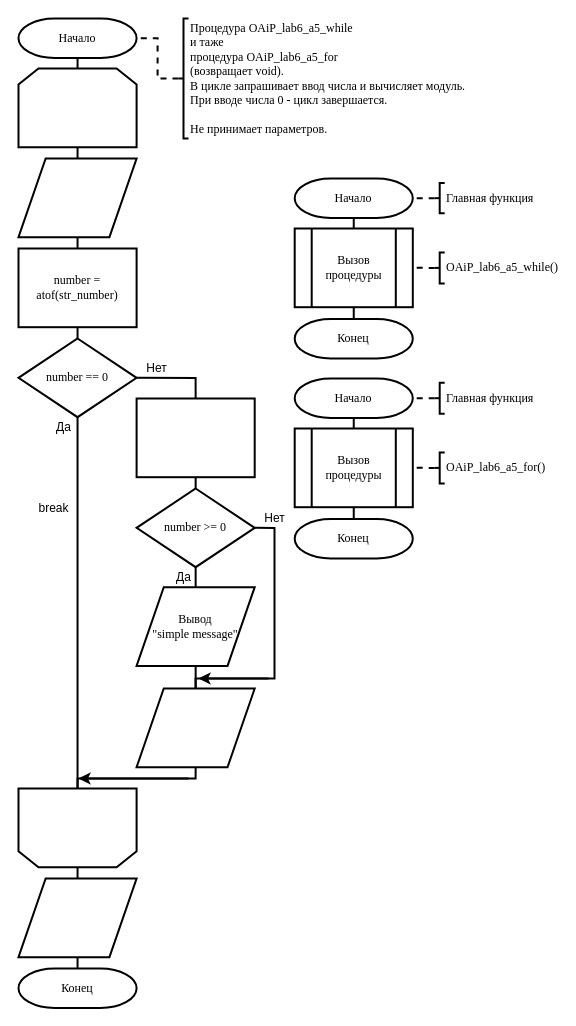
This 576x1026 diagram has some shape labels left out. The shapes that lost their labels are listed below. From the top down, each one's box as (x1, y1, x2, y2) in pixels, then its label:
(17, 67, 137, 148): 1 (бесконечный цикл)
(17, 157, 137, 238): Ввод str_number
(135, 397, 255, 478): result = number >= 0 ? number : -number
(135, 687, 255, 768): Форматный вывод |number| = result
(17, 787, 137, 868): Конец цикла
(17, 877, 137, 958): Вывод сообщения "end cycle"
